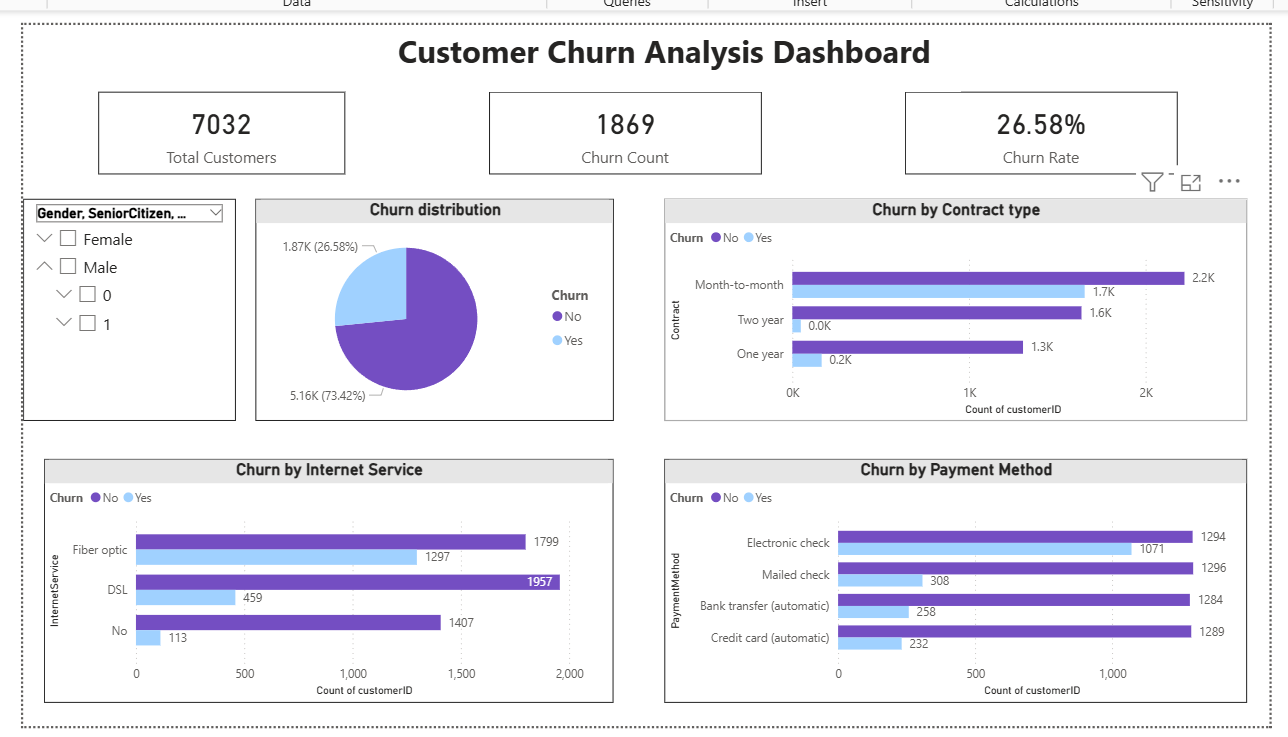

This screenshot's page, from the dashboard's own definition file:
{"tool":"powerbi","page":{"name":"Page 1","canvas":[1280,720],"ordinal":0},"visuals":[{"type":"card","title":"Total Customers","fields":{"Values":["project2 teleco_customer_churn.Total Customers"]},"box":[11.4,180,227.1,118.6],"z":0},{"type":"card","fields":{"Values":["project2 teleco_customer_churn.Churn Count"]},"box":[11.4,312.9,227.1,114.3],"z":1000},{"type":"card","fields":{"Values":["project2 teleco_customer_churn.Churn Rate"]},"box":[11.4,441.4,227.1,112.9],"z":2000},{"type":"donutChart","title":"Gender","fields":{"Category":["project2 teleco_customer_churn.gender"],"Y":["project2 teleco_customer_churn.Churn Count"]},"box":[256.2,83.8,221.2,201.2],"z":3000},{"type":"clusteredBarChart","title":"Churn by Contract type","fields":{"Category":["project2 teleco_customer_churn.Contract"],"Y":["CountNonNull(project2 teleco_customer_churn.customerID)"]},"box":[256.2,441.2,317.5,192.5],"z":4000},{"type":"pieChart","title":"Churn by Internet Service","fields":{"Category":["project2 teleco_customer_churn.InternetService"],"Y":["CountNonNull(project2 teleco_customer_churn.customerID)"]},"box":[937.5,453.8,317.5,253.8],"z":5000},{"type":"clusteredBarChart","title":"Churn by Payment Method","fields":{"Category":["project2 teleco_customer_churn.PaymentMethod"],"Y":["CountNonNull(project2 teleco_customer_churn.customerID)"]},"box":[256.2,298.8,367.5,142.5],"z":6000},{"type":"slicer","fields":{"Values":["project2 teleco_customer_churn.Churn"]},"box":[11.4,84.3,227.1,84.3],"z":7000},{"type":"textbox","box":[0,0,1280,68.8],"z":8000},{"type":"card","fields":{"Values":["project2 teleco_customer_churn.Monthly_charges"]},"box":[11.4,571.4,227.1,127.1],"z":9000},{"type":"donutChart","fields":{"Category":["project2 teleco_customer_churn.PaperlessBilling"],"Y":["CountNonNull(project2 teleco_customer_churn.Churn)"]},"box":[586.2,453.8,340,253.8],"z":10000},{"type":"card","fields":{"Values":["project2 teleco_customer_churn.Avg_of_monthlycharges"]},"box":[255.7,635.7,160,71.4],"z":11000},{"type":"card","fields":{"Values":["project2 teleco_customer_churn.Avg_of_totalcharges"]},"box":[415.7,635.7,158.6,71.4],"z":12000},{"type":"card","fields":{"Values":["project2 teleco_customer_churn.Partener in %"]},"box":[501.2,83.8,221.2,96.2],"z":13000},{"type":"card","fields":{"Values":["project2 teleco_customer_churn.Dependents in %"]},"box":[501.2,180,221.2,105],"z":14000},{"type":"barChart","title":"Churn by Yearly ","fields":{"Category":["project2 teleco_customer_churn.Tenure Group"],"Y":["project2 teleco_customer_churn.Churn % by Tenure"]},"box":[722.5,83.8,532.5,201.2],"z":15000},{"type":"card","fields":{"Values":["project2 teleco_customer_churn.Streaming TV %"]},"box":[623.8,298.8,210,71.2],"z":16000},{"type":"card","fields":{"Values":["project2 teleco_customer_churn.Streaming Movies %"]},"box":[833.8,298.8,236.2,71.2],"z":17000},{"type":"card","fields":{"Values":["project2 teleco_customer_churn.Device Protection %"]},"box":[1070,298.8,186.2,71.2],"z":18000},{"type":"card","fields":{"Values":["project2 teleco_customer_churn.Online Security %"]},"box":[623.8,370,210,71.2],"z":19000},{"type":"card","fields":{"Values":["project2 teleco_customer_churn.Online Backup %"]},"box":[833.8,370,421.2,71.2],"z":20000}]}

Visuals, with their boxes on the page's 1280x720 design canvas (x1, y1, x2, y2). These are canvas units, not pixel positions in the 1288x737 screenshot, which may show the page scaled, cropped or inside an application window:
"Total Customers" card: box(11, 180, 238, 299)
card - project2 teleco_customer_churn.Churn Count: box(11, 313, 238, 427)
card - project2 teleco_customer_churn.Churn Rate: box(11, 441, 238, 554)
"Gender" donutChart: box(256, 84, 477, 285)
"Churn by Contract type" clusteredBarChart: box(256, 441, 574, 634)
"Churn by Internet Service" pieChart: box(938, 454, 1255, 708)
"Churn by Payment Method" clusteredBarChart: box(256, 299, 624, 441)
slicer - project2 teleco_customer_churn.Churn: box(11, 84, 238, 169)
textbox: box(0, 0, 1280, 69)
card - project2 teleco_customer_churn.Monthly_charges: box(11, 571, 238, 698)
donutChart - project2 teleco_customer_churn.PaperlessBilling x CountNonNull(project2 teleco_customer_churn.Churn): box(586, 454, 926, 708)
card - project2 teleco_customer_churn.Avg_of_monthlycharges: box(256, 636, 416, 707)
card - project2 teleco_customer_churn.Avg_of_totalcharges: box(416, 636, 574, 707)
card - project2 teleco_customer_churn.Partener in %: box(501, 84, 722, 180)
card - project2 teleco_customer_churn.Dependents in %: box(501, 180, 722, 285)
"Churn by Yearly " barChart: box(722, 84, 1255, 285)
card - project2 teleco_customer_churn.Streaming TV %: box(624, 299, 834, 370)
card - project2 teleco_customer_churn.Streaming Movies %: box(834, 299, 1070, 370)
card - project2 teleco_customer_churn.Device Protection %: box(1070, 299, 1256, 370)
card - project2 teleco_customer_churn.Online Security %: box(624, 370, 834, 441)
card - project2 teleco_customer_churn.Online Backup %: box(834, 370, 1255, 441)
